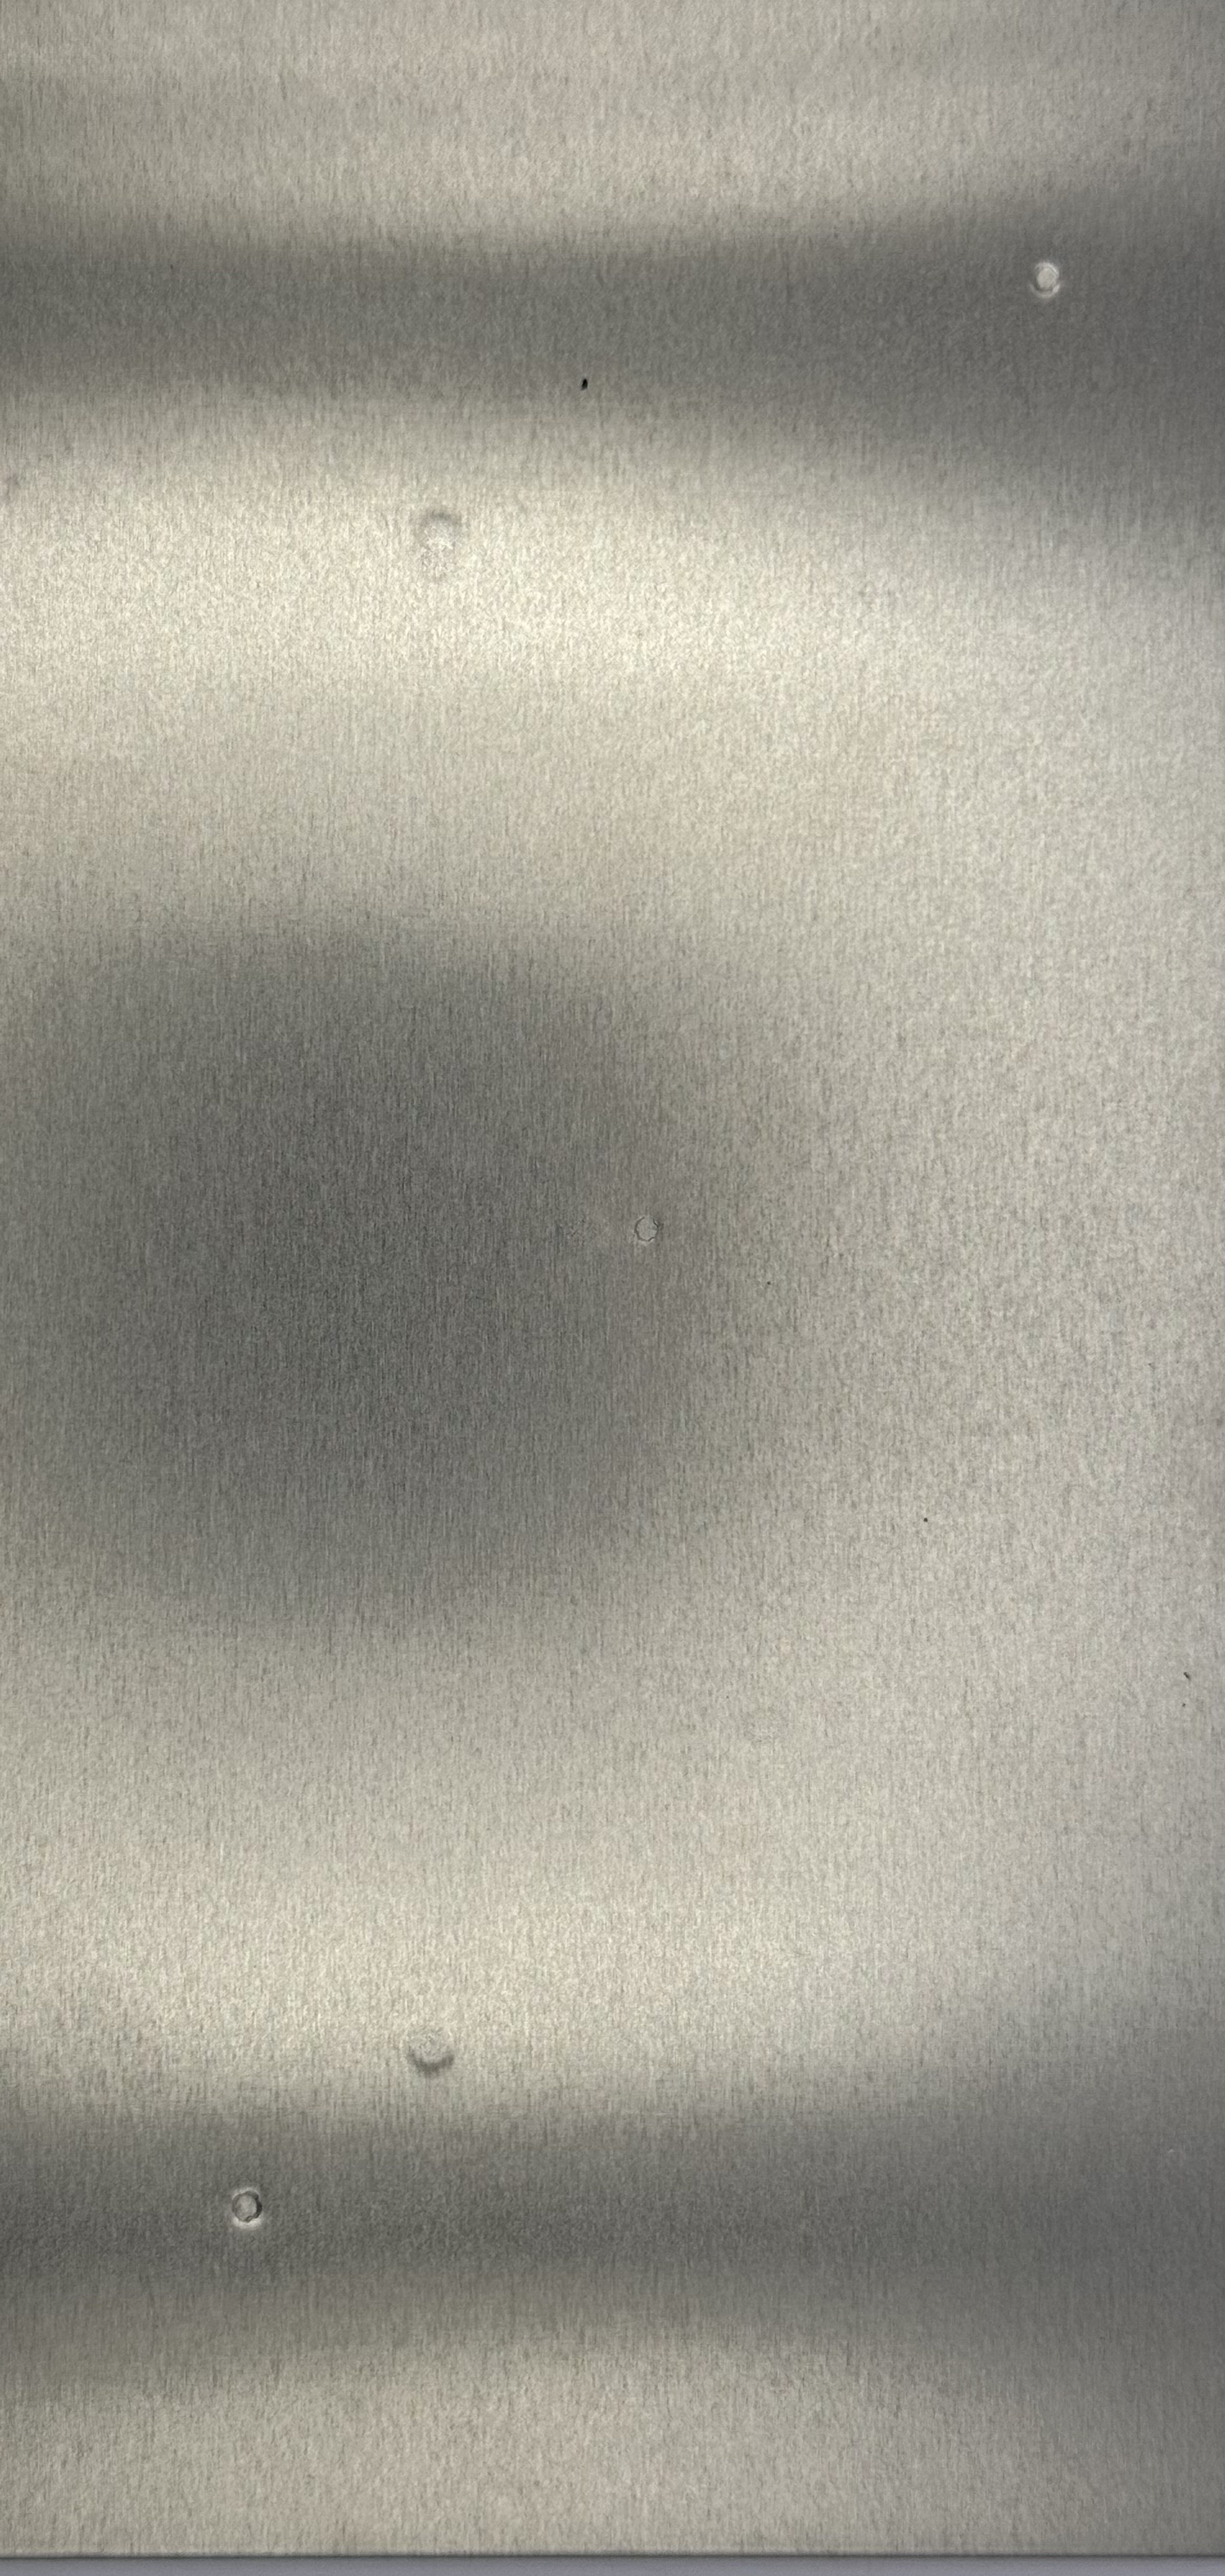Delle: (388, 486, 488, 603), (384, 2008, 475, 2090), (210, 2177, 287, 2241), (1012, 241, 1079, 310), (609, 1203, 678, 1262)
